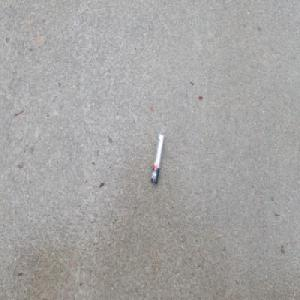Battery: (151, 132, 165, 185)
